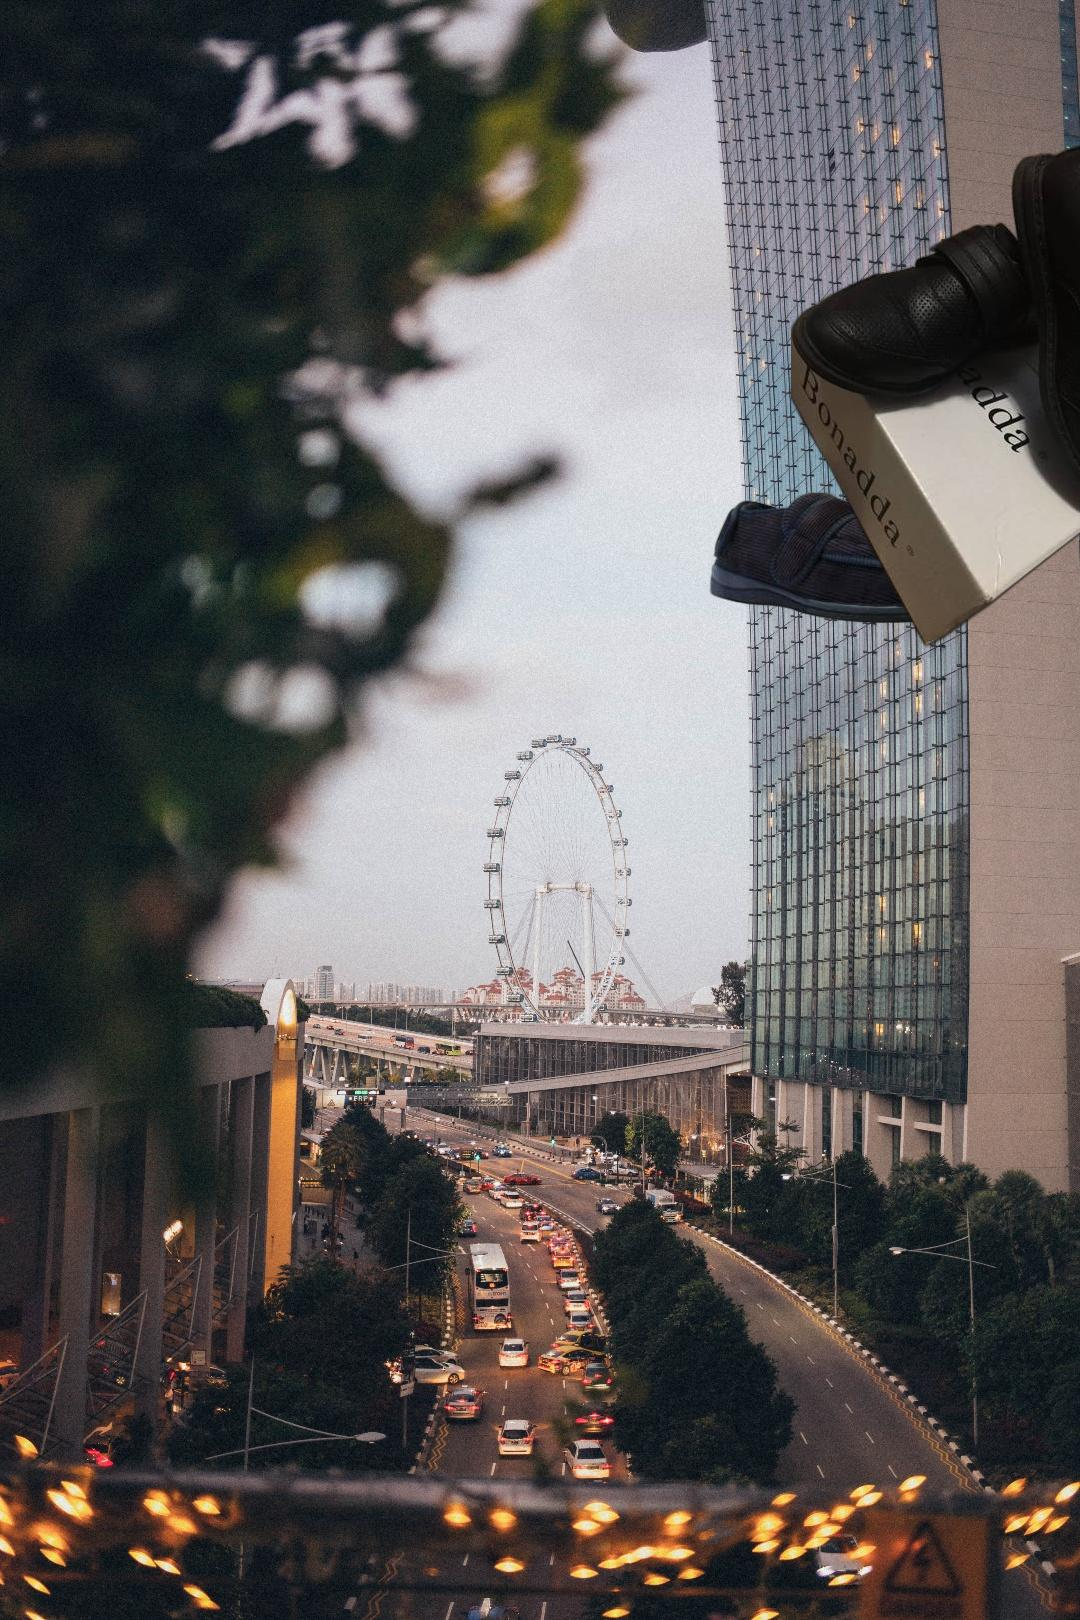shoes: (791, 136, 1080, 652), (707, 489, 981, 626)
